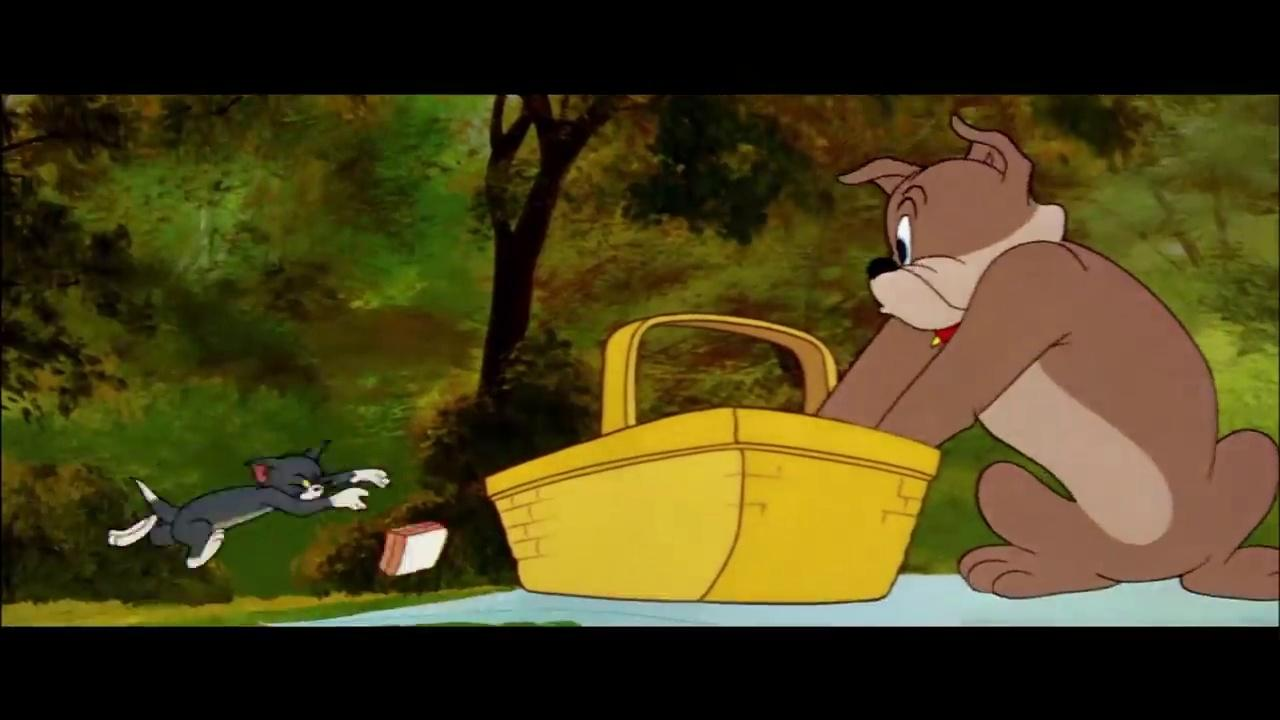Tom: (106, 451, 393, 572)
